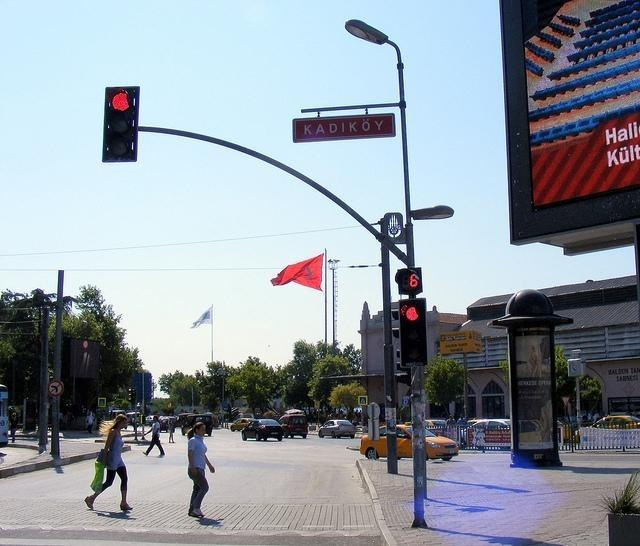car: (359, 422, 459, 462), (573, 414, 640, 442), (460, 419, 510, 445), (242, 418, 284, 442), (278, 414, 309, 440), (318, 420, 355, 440), (230, 419, 252, 430), (425, 420, 446, 426), (467, 418, 482, 424), (146, 415, 154, 426)
